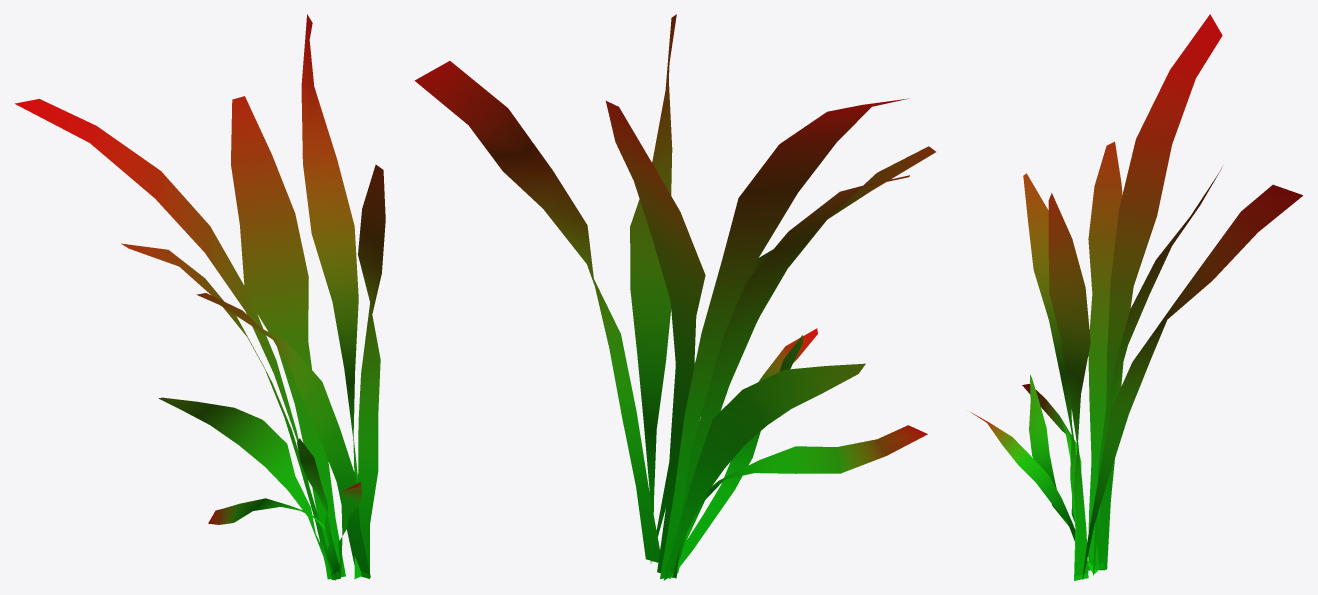
The model's file is Var3_LOD2.fbx.
3 views of the same model, side by side, from view 1: azimuth 30°, elevation 25°; view 2: azimuth 150°, elevation 25°; view 3: azimuth 270°, elevation 25° (orthographic). The views are drawn at different scales.
Visible parts, largest first — view 1: _d1f6_Var3_LOD2; view 2: _d1f6_Var3_LOD2; view 3: _d1f6_Var3_LOD2.
Boxes of the visible parts, left/top/right/bottom form: _d1f6_Var3_LOD2: left=15, top=14, right=385, bottom=580; _d1f6_Var3_LOD2: left=414, top=14, right=935, bottom=580; _d1f6_Var3_LOD2: left=971, top=14, right=1302, bottom=580.
Size of the model in its own units: 69.23 by 94.53 by 65.01.
